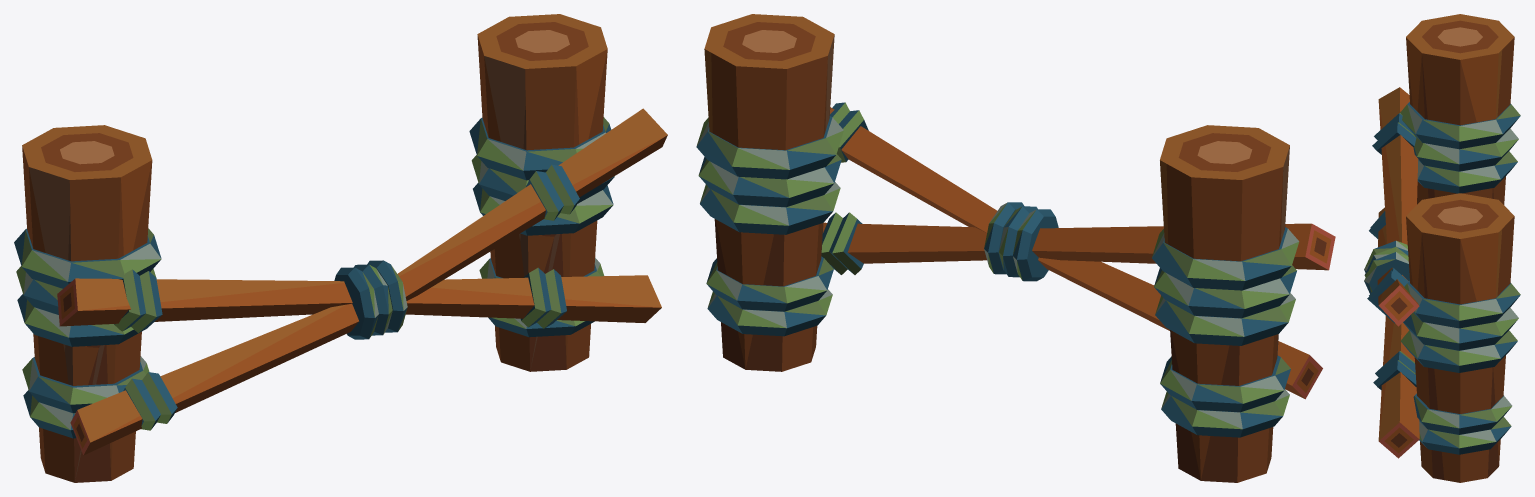
Rendered from itch_fishing_village_fence2.glb.
3 renders of one model, left to right at view 1: azimuth 30°, elevation 25°; view 2: azimuth 150°, elevation 25°; view 3: azimuth 270°, elevation 25°, orthographic. The views are drawn at different scales.
Parts seen in each view (by area): view 1: fence2.001; view 2: fence2.001; view 3: fence2.001.
Part boxes in pixels (<box>): fence2.001: <box>14,14,667,482</box>; fence2.001: <box>696,14,1335,482</box>; fence2.001: <box>1364,14,1520,482</box>.
Size of the model in its own units: 1.18 by 0.581 by 0.3298.
